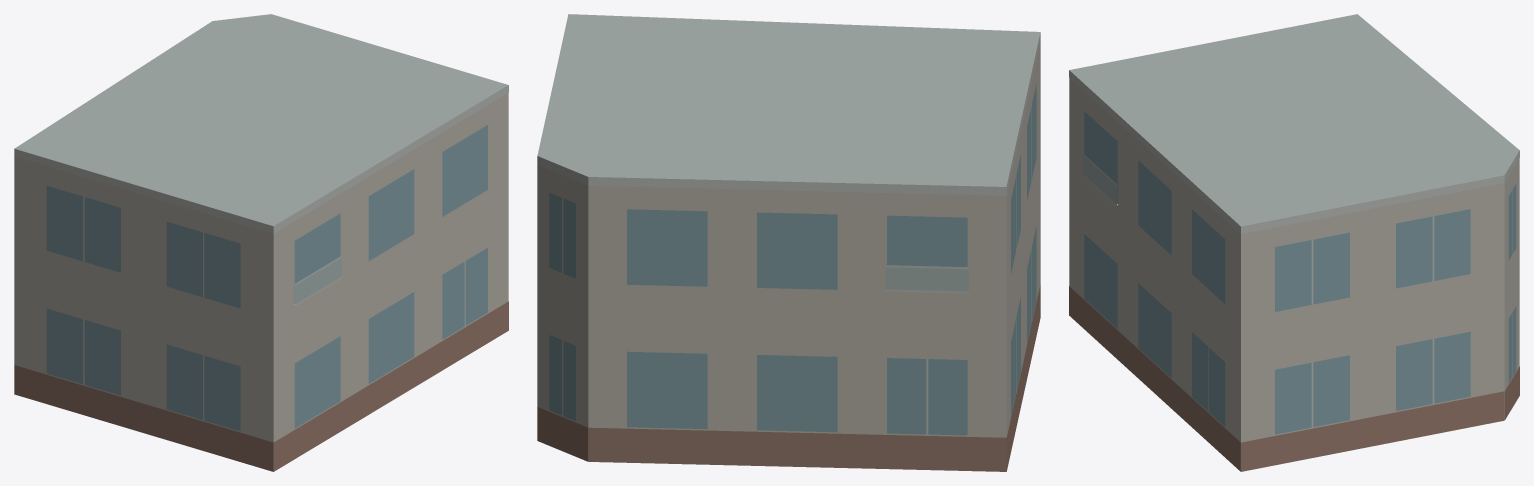
File: survey-upis-32735174.glb
The picture shows the model from 3 angles, left to right: view 1: azimuth 30°, elevation 25°; view 2: azimuth 150°, elevation 25°; view 3: azimuth 270°, elevation 25°; orthographic projection. The views are drawn at different scales.
Visible parts, largest first — view 1: survey-upis-32735174.tmp; view 2: survey-upis-32735174.tmp; view 3: survey-upis-32735174.tmp.
Boxes of the visible parts, x1,y1,x2,y2 form: survey-upis-32735174.tmp: (14,14,508,471); survey-upis-32735174.tmp: (537,14,1040,471); survey-upis-32735174.tmp: (1069,14,1519,471).
Bounding box in the file's own units: 14.5 × 7.8 × 12.99.
